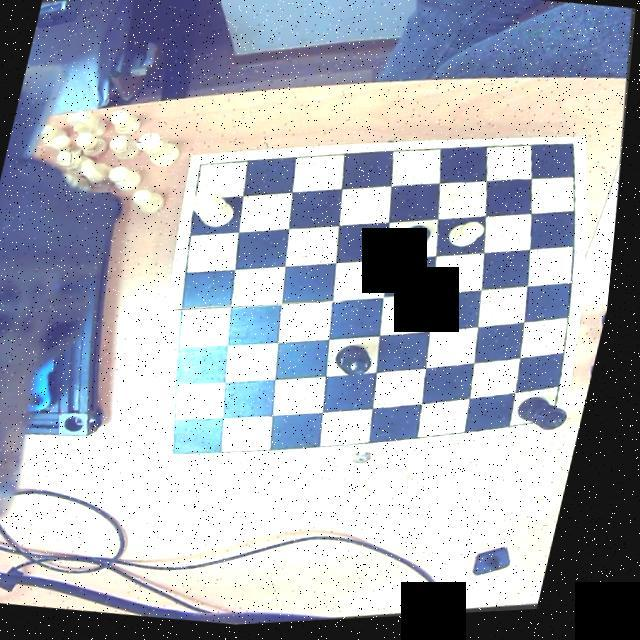chess-table-corners: (170, 438, 202, 467), (188, 156, 218, 184), (556, 140, 590, 164), (547, 410, 576, 434)
